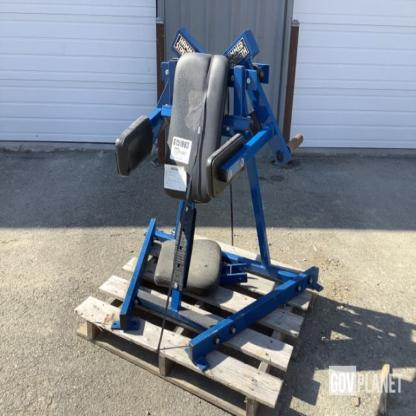lateral raises machine: (114, 30, 325, 369)
